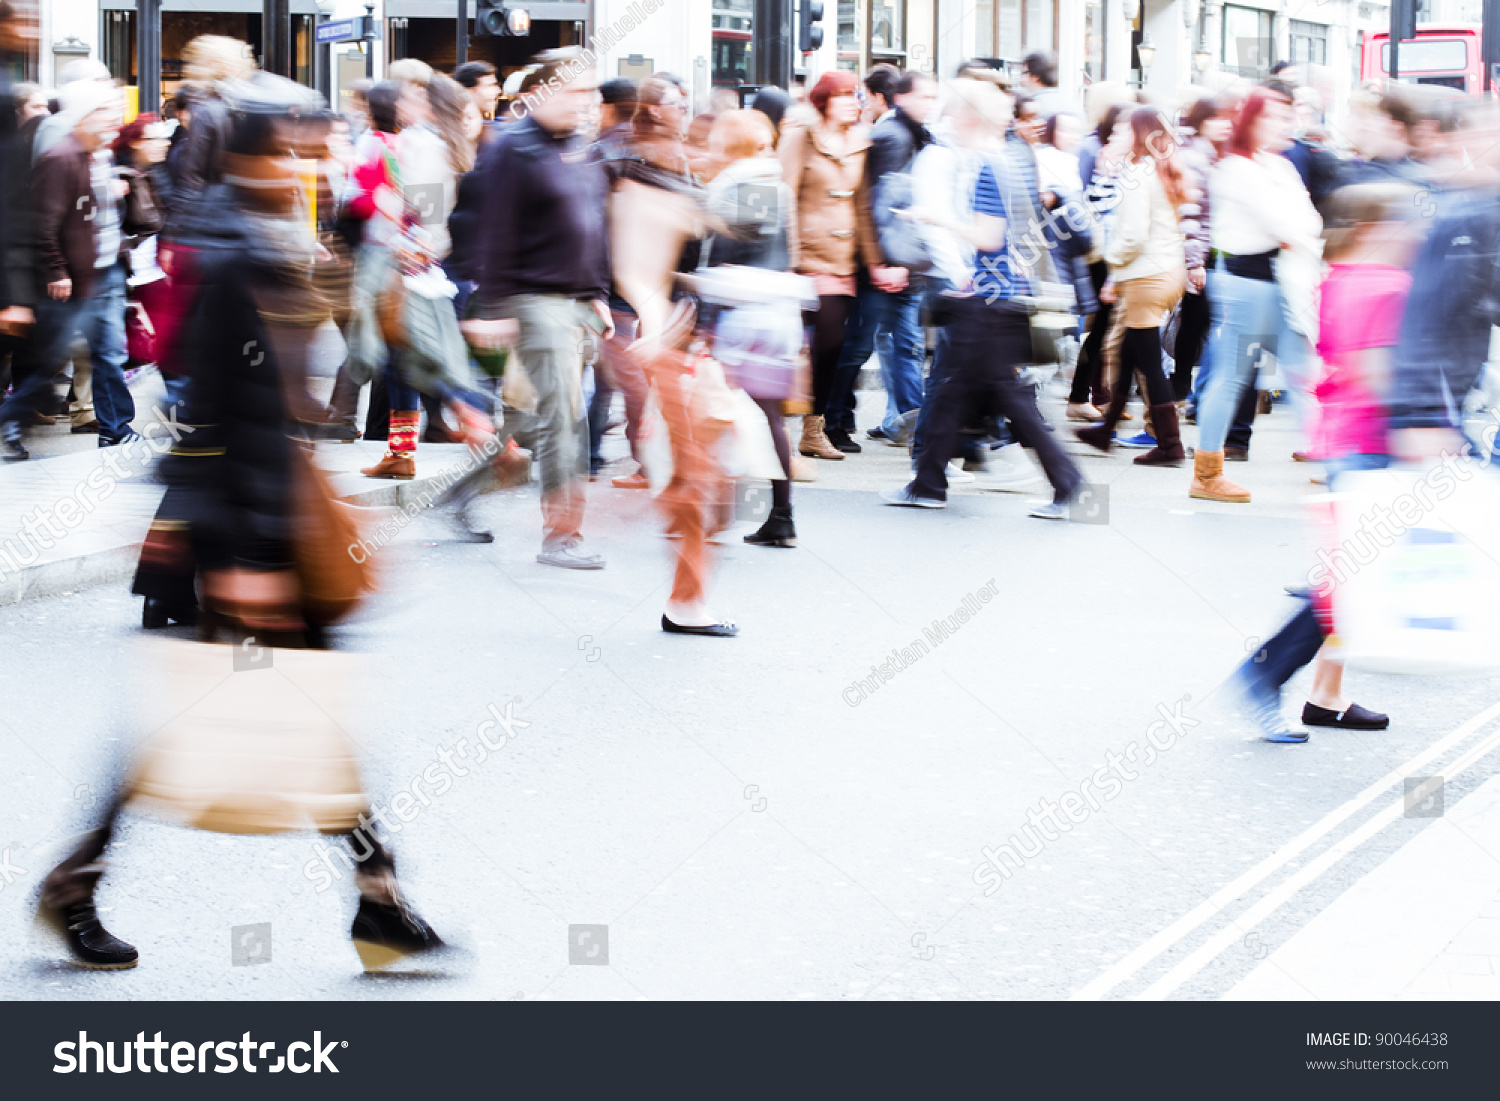pedestrian: (56, 100, 489, 989), (421, 46, 638, 573), (889, 76, 1107, 524)
